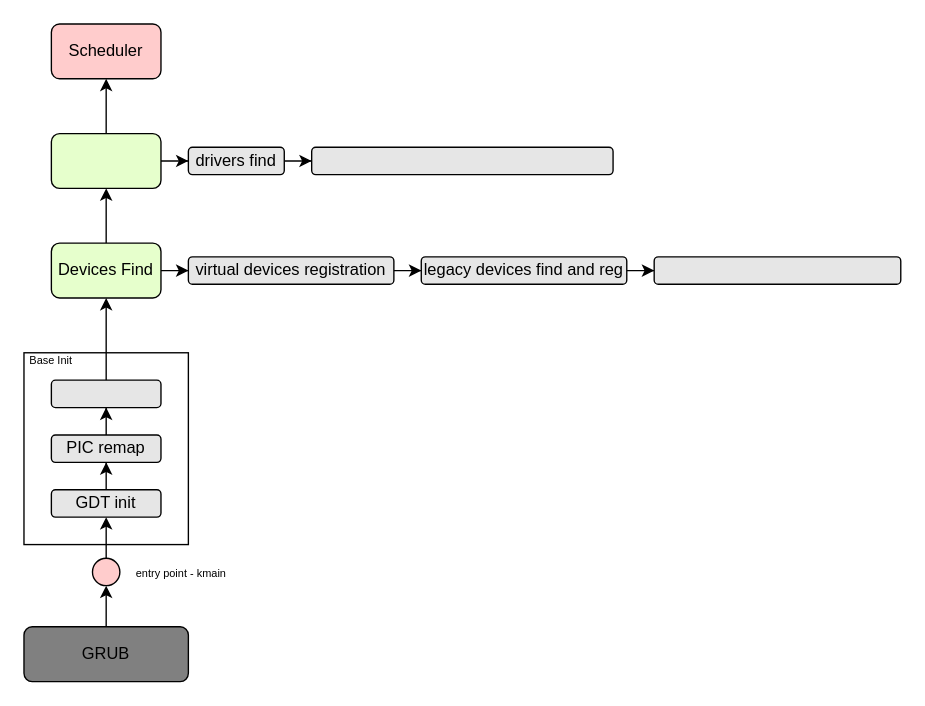
The diagram is 925 pixels wide and 706 high, and some of its shapes have lost their labels. Each missing label, with the centre of its shape:
"API init" goes at pixel 105 393.
"Driver Manager" goes at pixel 105 160.
"get and registration drivers for devices" goes at pixel 461 160.
"pci devices find and registration" goes at pixel 777 270.
